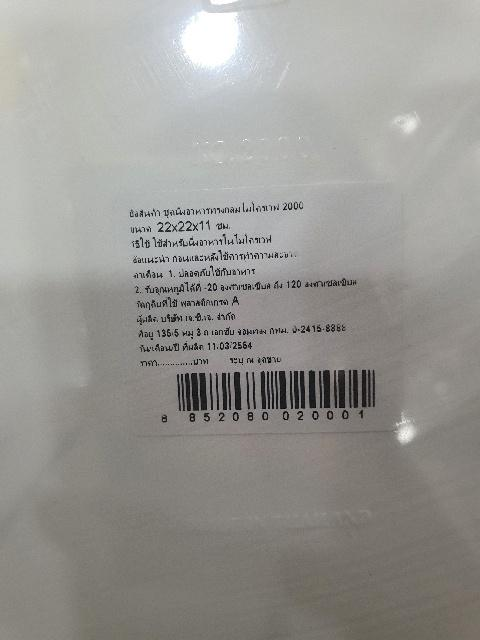Barcode: (151, 365, 392, 432)
